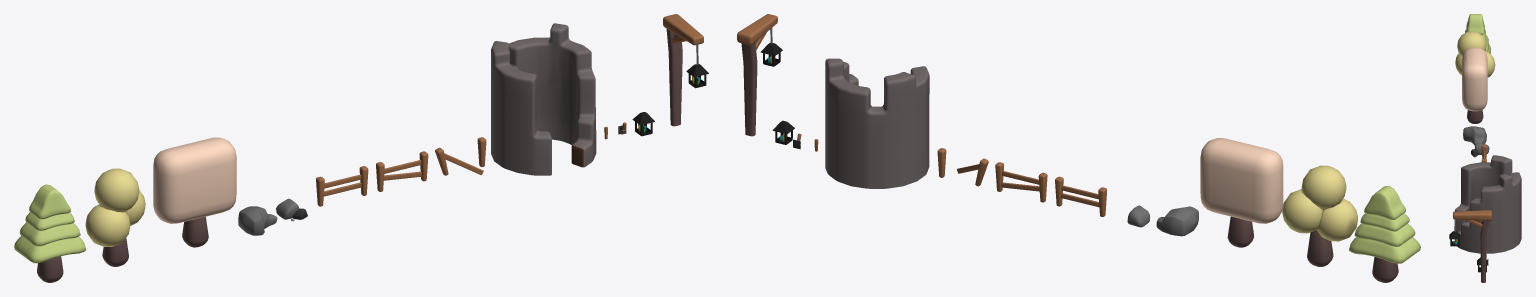
File: Sans titre.glb
The picture shows the model from 3 angles, left to right: view 1: azimuth 30°, elevation 25°; view 2: azimuth 150°, elevation 25°; view 3: azimuth 270°, elevation 25°; orthographic projection. The views are drawn at different scales.
Parts seen in each view (by area): view 1: Tour, ArbreCarré, Sapin, ArbreRond, Lampadaire, Barrière001, Barrière, GrosCaillou, Barrière002, PetitCaillou; view 2: Tour, ArbreCarré, ArbreRond, Sapin, Lampadaire, GrosCaillou, Barrière001, Barrière, Barrière002; view 3: Tour, ArbreCarré, Lampadaire, ArbreRond, Sapin, GrosCaillou, PetitCaillou, Barrière, Lanterne.
Part boxes in pixels (box(x1,y1,x2,y2)): Tour: box(491, 23, 596, 175); ArbreCarré: box(153, 137, 236, 247); Sapin: box(14, 184, 86, 282); ArbreRond: box(85, 168, 145, 266); Lampadaire: box(663, 14, 708, 126); Barrière001: box(376, 151, 428, 191); Barrière: box(316, 166, 368, 206); GrosCaillou: box(238, 206, 277, 235); Barrière002: box(435, 137, 486, 175); PetitCaillou: box(276, 198, 307, 221); Tour: box(825, 58, 929, 188); ArbreCarré: box(1200, 138, 1283, 247); ArbreRond: box(1282, 165, 1357, 266); Sapin: box(1349, 186, 1420, 282); Lampadaire: box(737, 14, 782, 136); GrosCaillou: box(1156, 206, 1198, 236); Barrière001: box(995, 162, 1047, 202); Barrière: box(1055, 176, 1107, 216); Barrière002: box(937, 148, 988, 186); Tour: box(1454, 155, 1521, 253); ArbreCarré: box(1462, 47, 1487, 123); Lampadaire: box(1449, 210, 1491, 282); ArbreRond: box(1455, 31, 1495, 77); Sapin: box(1465, 14, 1490, 53); GrosCaillou: box(1463, 126, 1486, 145); PetitCaillou: box(1471, 144, 1489, 157); Barrière: box(1481, 144, 1486, 162); Lanterne: box(1477, 257, 1487, 272).
Bounding box in the file's own units: 43.95 × 6.96 × 6.21.
1 material, 1 textured.
